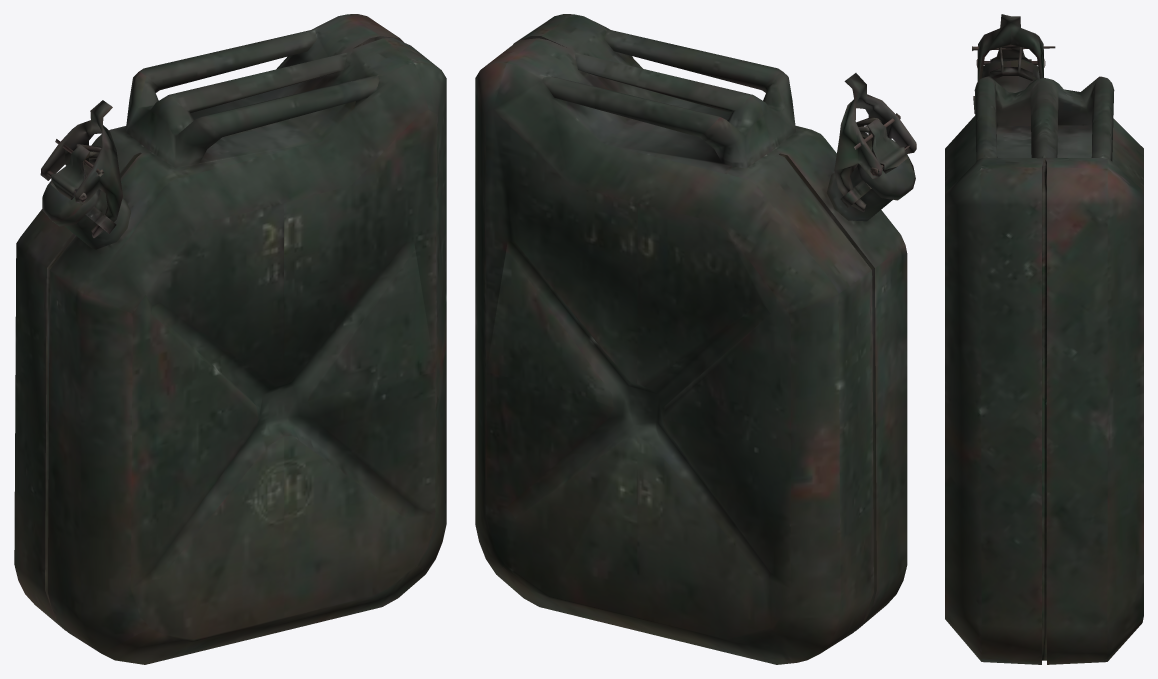
Rendered from metal_jerrycan_green.glb.
3 renders of one model, left to right at view 1: azimuth 30°, elevation 25°; view 2: azimuth 150°, elevation 25°; view 3: azimuth 270°, elevation 25°, orthographic. The views are drawn at different scales.
Parts seen in each view (by area): view 1: metal_jerrycan_green_pin; view 2: metal_jerrycan_green_pin; view 3: metal_jerrycan_green_pin.
Part boxes in pixels (x1,y1,x2,y2): metal_jerrycan_green_pin: (14,14,446,664); metal_jerrycan_green_pin: (475,14,916,664); metal_jerrycan_green_pin: (945,14,1143,664).
Bounding box in the file's own units: 0.36 × 0.4998 × 0.1709.
Materials: 1 (1 with a texture image).
